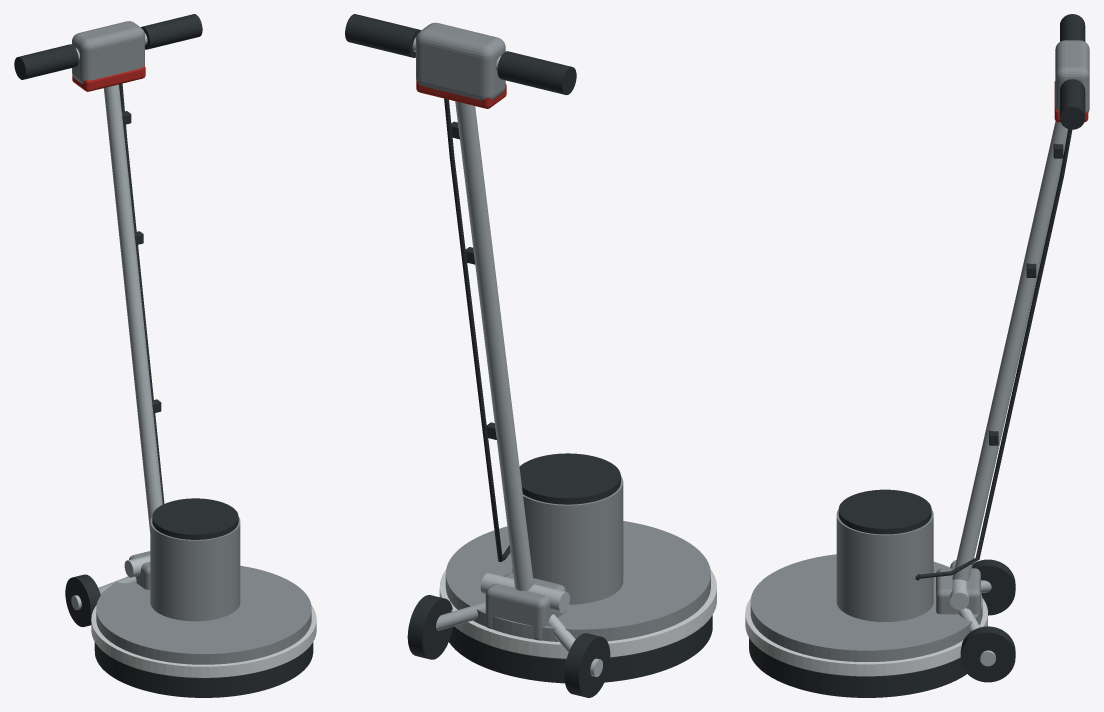
Rendered from A-NEW-20261026-FLOOR-POLISHER-001_LOD0_R1.glb.
3 renders of one model, left to right at view 1: azimuth 30°, elevation 25°; view 2: azimuth 150°, elevation 25°; view 3: azimuth 270°, elevation 25°, orthographic. The views are drawn at different scales.
Visible parts, largest first — view 1: brush deck, motor housing, inclined straight shaft, dark bristle annulus, outer bumper, central control housing, motor upper cap, hand grip -1, hand grip 1, transport wheel -1, shaft electrical cable, red lower control; view 2: brush deck, inclined straight shaft, motor housing, central control housing, dark bristle annulus, motor upper cap, outer bumper, rear hinge base, shaft electrical cable, hand grip -1, transport wheel -1, transport wheel 1 (+4 smaller); view 3: brush deck, motor housing, inclined straight shaft, dark bristle annulus, outer bumper, motor upper cap, shaft electrical cable, transport wheel 1, central control housing, transport wheel -1, rear hinge base, hand grip 1 (+2 smaller).
Part boxes in pixels (bbox=[...]): brush deck: bbox=[96, 565, 311, 664]; motor housing: bbox=[150, 516, 240, 621]; inclined straight shaft: bbox=[103, 84, 162, 533]; dark bristle annulus: bbox=[94, 642, 313, 697]; outer bumper: bbox=[91, 605, 316, 677]; central control housing: bbox=[72, 21, 144, 83]; motor upper cap: bbox=[152, 498, 238, 539]; hand grip -1: bbox=[14, 44, 78, 79]; hand grip 1: bbox=[141, 14, 202, 49]; transport wheel -1: bbox=[65, 574, 100, 626]; shaft electrical cable: bbox=[119, 83, 164, 504]; red lower control: bbox=[72, 66, 145, 91]; brush deck: bbox=[445, 521, 710, 641]; inclined straight shaft: bbox=[455, 101, 533, 590]; motor housing: bbox=[512, 476, 623, 604]; central control housing: bbox=[416, 22, 505, 100]; dark bristle annulus: bbox=[449, 615, 712, 683]; motor upper cap: bbox=[519, 453, 620, 504]; outer bumper: bbox=[439, 569, 716, 658]; rear hinge base: bbox=[485, 573, 565, 640]; shaft electrical cable: bbox=[444, 98, 510, 561]; hand grip -1: bbox=[497, 51, 576, 95]; transport wheel -1: bbox=[564, 633, 610, 697]; transport wheel 1: bbox=[407, 595, 452, 659]; brush deck: bbox=[750, 554, 982, 662]; motor housing: bbox=[836, 509, 933, 621]; inclined straight shaft: bbox=[952, 121, 1068, 581]; dark bristle annulus: bbox=[749, 638, 966, 697]; outer bumper: bbox=[745, 598, 987, 676]; motor upper cap: bbox=[838, 489, 931, 534]; shaft electrical cable: bbox=[919, 129, 1072, 578]; transport wheel 1: bbox=[960, 626, 1015, 682]; central control housing: bbox=[1055, 40, 1089, 113]; transport wheel -1: bbox=[972, 559, 1015, 615]; rear hinge base: bbox=[936, 568, 980, 624]; hand grip 1: bbox=[1060, 79, 1085, 129].
Size of the model in its own units: 0.46 by 1.24 by 0.6525.
